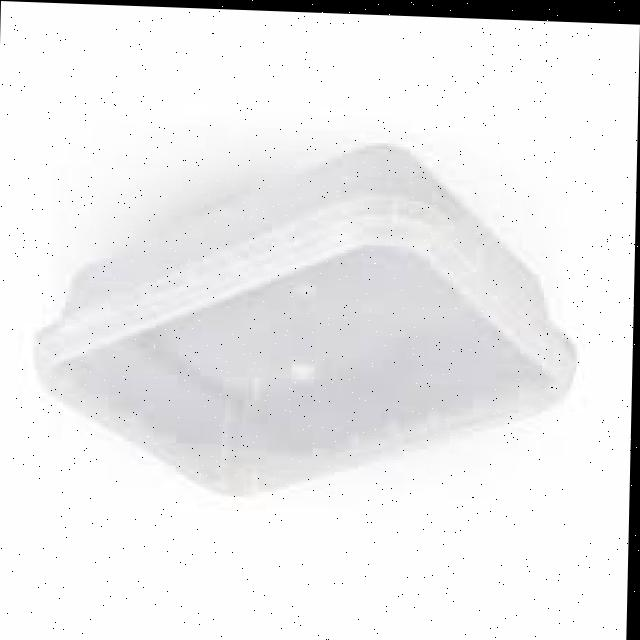disposable: (39, 120, 551, 504)
